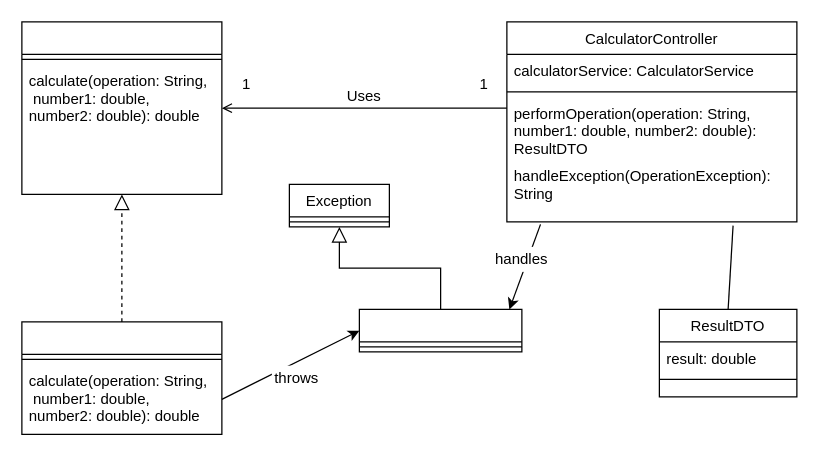
This 819x460 diagram has some shape labels left out. The box of each missing label's shape, as (x1, y1, x2, y2) in pixels:
CalculatorService: (21, 21, 222, 194)
CalculatorServiceImpl: (21, 321, 222, 434)
OperationException: (358, 308, 522, 352)
